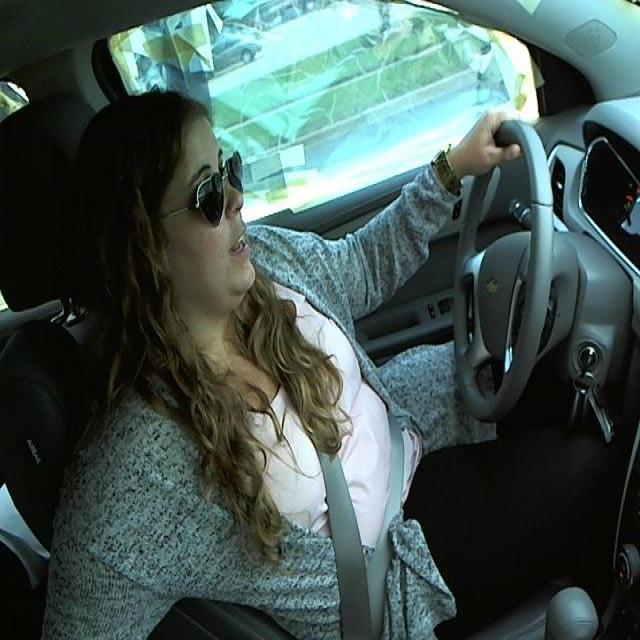seatbelt: (240, 360, 419, 639)
